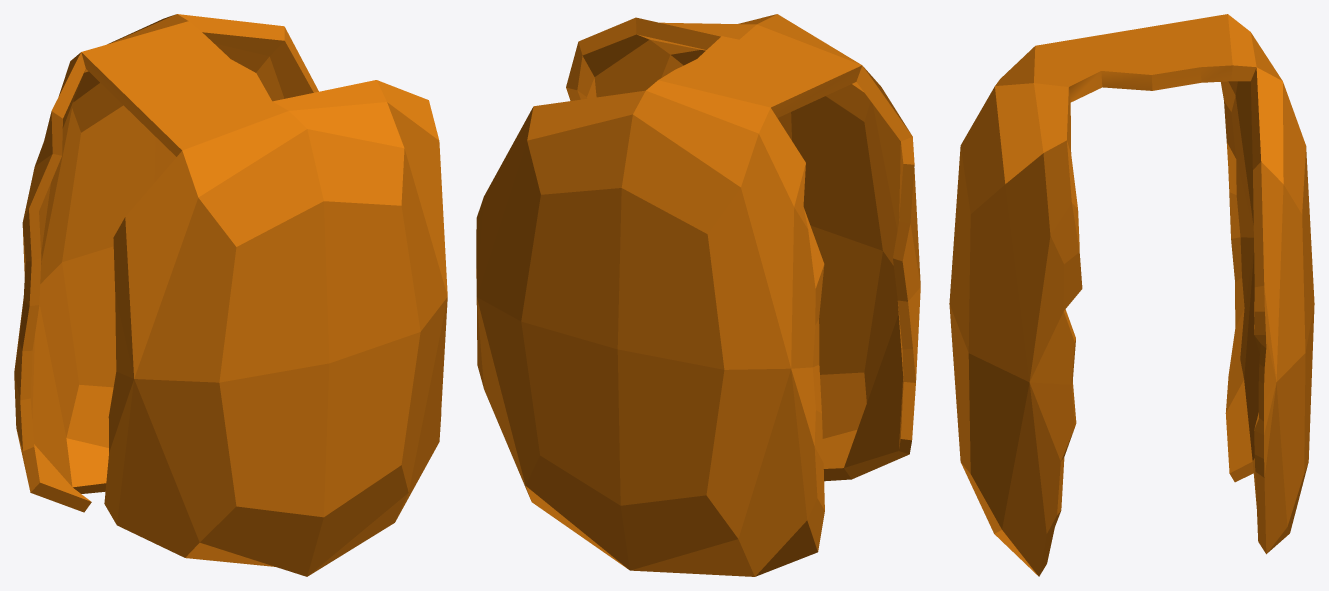
File: dirt_exit.glb
The picture shows the model from 3 angles, left to right: view 1: azimuth 30°, elevation 25°; view 2: azimuth 150°, elevation 25°; view 3: azimuth 270°, elevation 25°; orthographic projection.
Visible parts, largest first — view 1: Cube; view 2: Cube; view 3: Cube.
Boxes of the visible parts, x1,y1,x2,y2 form: Cube: [14, 14, 447, 576]; Cube: [476, 14, 920, 576]; Cube: [949, 14, 1314, 576].
Bounding box in the file's own units: 2.04 × 2.76 × 1.91.
